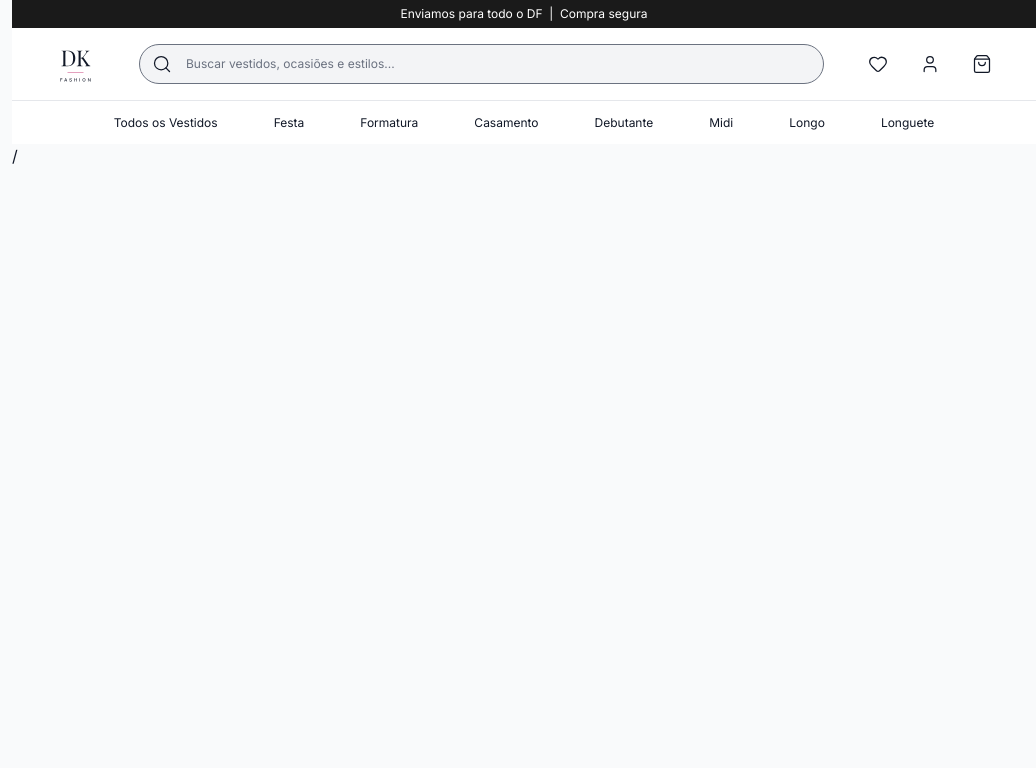
Test case: Header › fecha o menu do usuário ao clicar fora
Click the button named "Minha conta" at (930, 64), box 908,42 -> 952,86
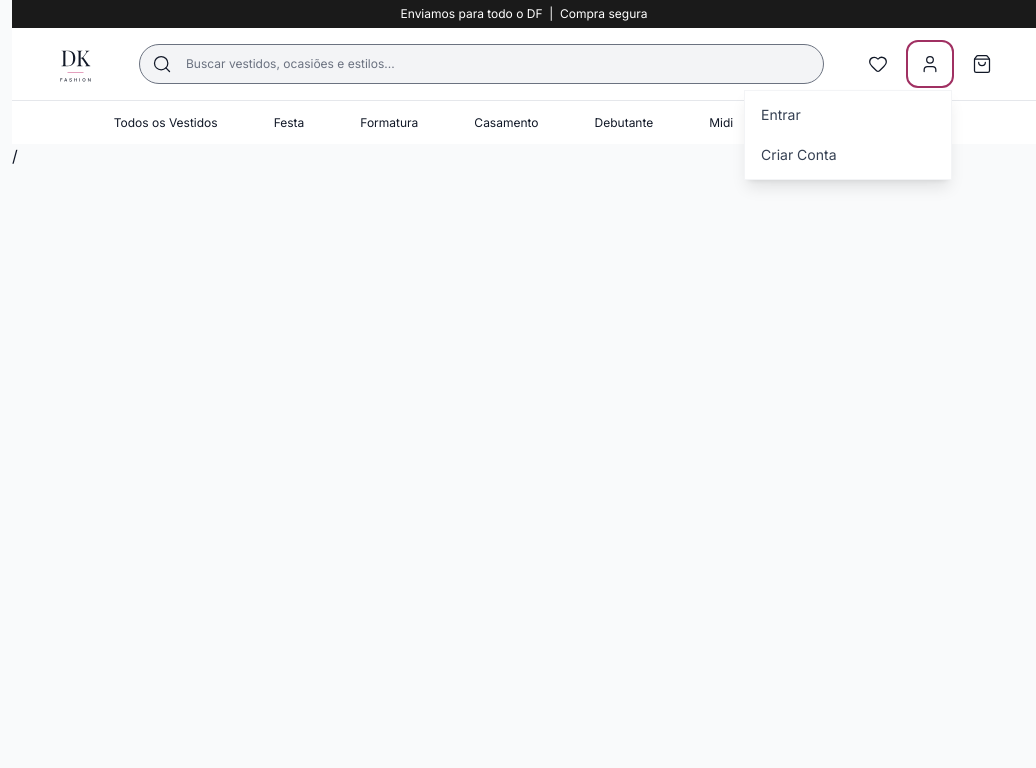
Now the link "Entrar" is shown, box 761,106 -> 801,123
Press the mouse on the element that starts with "Enviamos para todo o DF | Compra segura" at (524, 384), box 12,0 -> 1035,767
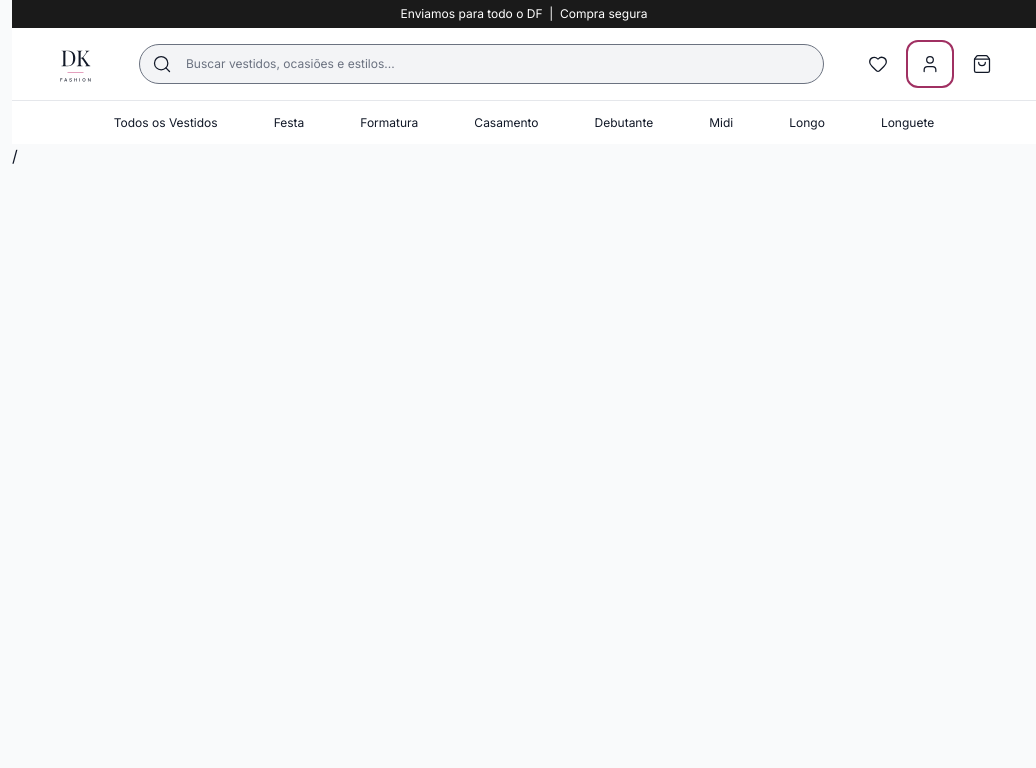
Now the link "Entrar" is gone
